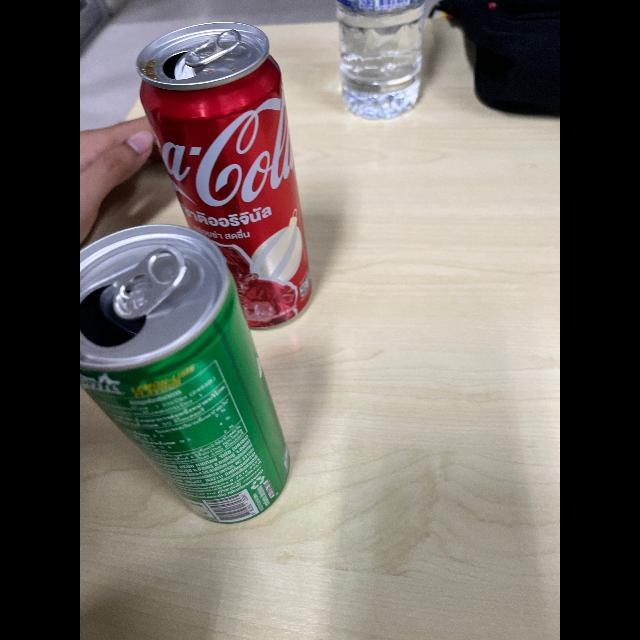can: (80, 228, 312, 530), (136, 19, 328, 334)
